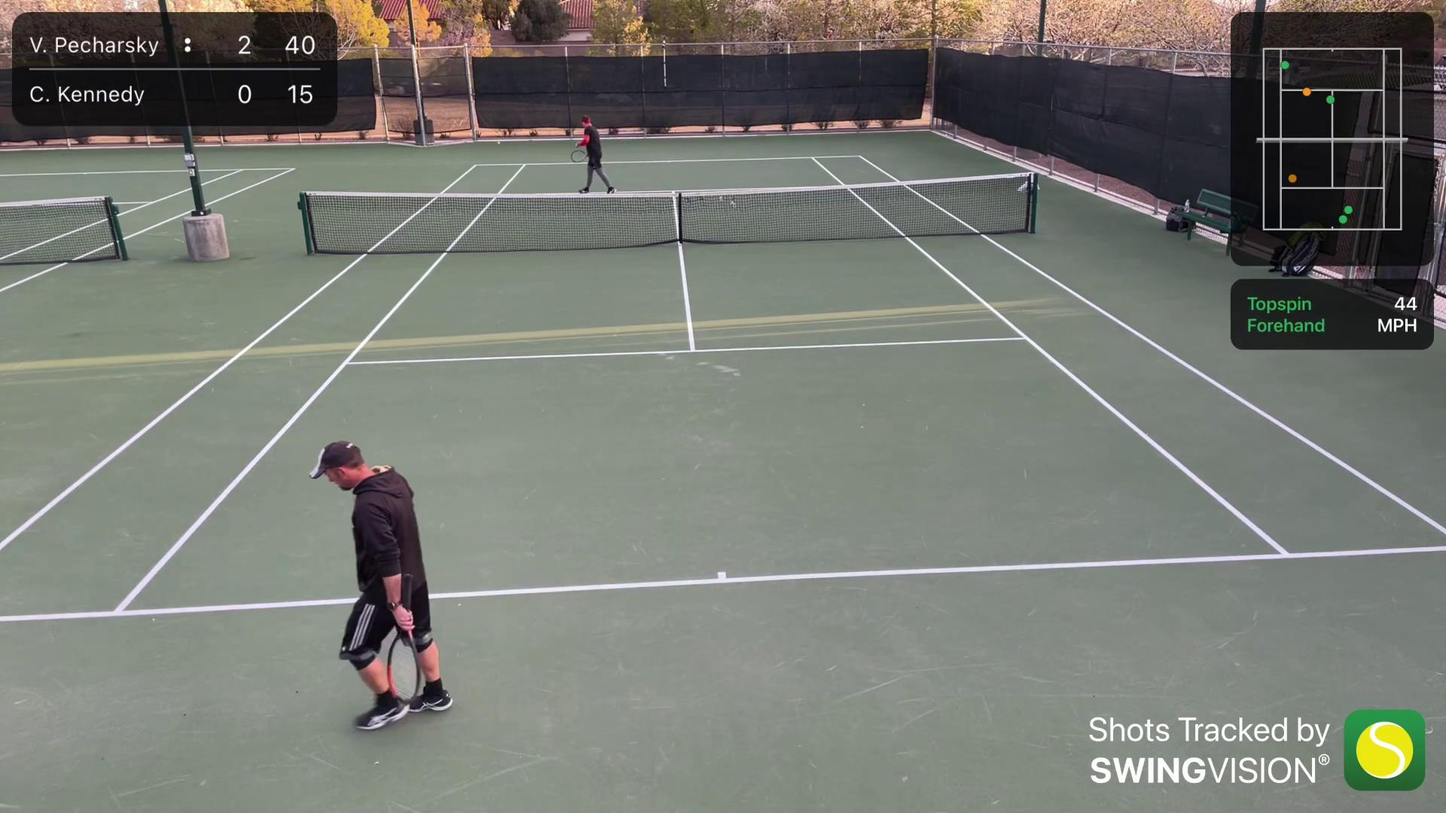ball: (497, 141, 501, 145)
